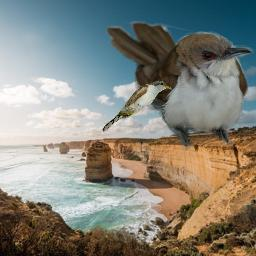Cuckoo: (106, 21, 254, 153), (101, 80, 173, 132)
